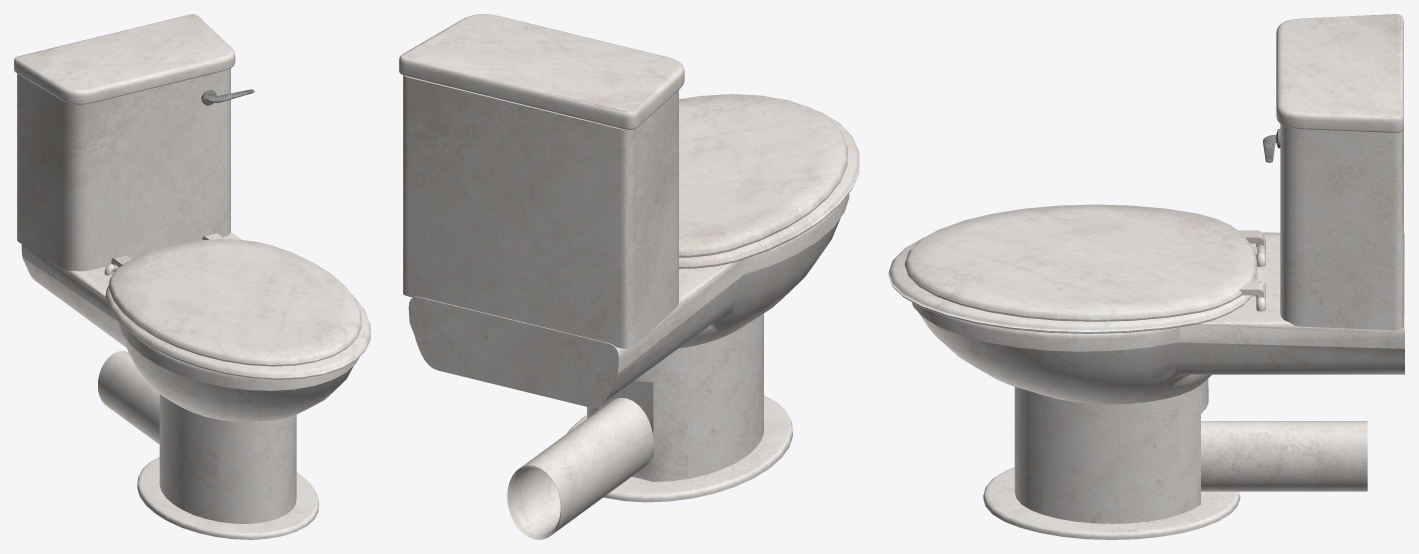
Rendered from Toilet.FBX.
3 views of the same model, side by side, from view 1: azimuth 30°, elevation 25°; view 2: azimuth 150°, elevation 25°; view 3: azimuth 270°, elevation 25° (orthographic). The views are drawn at different scales.
Visible parts, largest first — view 1: Sphere001, Object003, Object001, Object002, Cylinder001; view 2: Sphere001, Object003, Object001, Object002; view 3: Sphere001, Object003, Object001, Object002.
Part boxes in pixels (x1,y1,x2,y2): Sphere001: [17, 68, 359, 539]; Object003: [108, 233, 361, 366]; Object001: [14, 14, 235, 104]; Object002: [105, 258, 370, 379]; Cylinder001: [201, 89, 254, 105]; Sphere001: [403, 75, 849, 539]; Object003: [679, 94, 847, 257]; Object001: [399, 14, 684, 129]; Object002: [679, 110, 859, 268]; Sphere001: [912, 124, 1404, 539]; Object003: [904, 204, 1265, 321]; Object001: [1276, 14, 1403, 132]; Object002: [888, 239, 1265, 333].
Size of the model in its own units: 188 by 325 by 351.
Materials: 5 (5 with a texture image).
